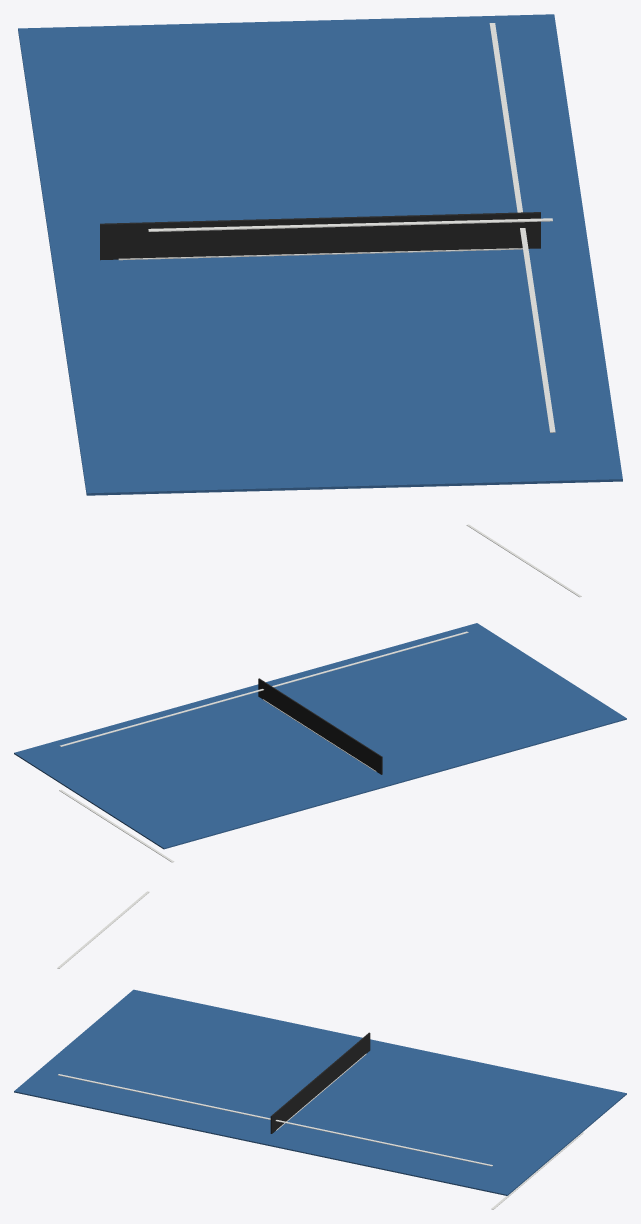
Rendered from nd_pitch_1499487638.glb.
The picture shows the model from 3 angles, top to bottom: view 1: azimuth 30°, elevation 25°; view 2: azimuth 150°, elevation 25°; view 3: azimuth 270°, elevation 25°; orthographic projection. The views are drawn at different scales.
Parts seen in each view (by area): view 1: nd_pitch_1499487638_lod0; view 2: nd_pitch_1499487638_lod0; view 3: nd_pitch_1499487638_lod0.
Boxes of the visible parts, left/top/right/bottom form: nd_pitch_1499487638_lod0: left=18, top=14, right=622, bottom=495; nd_pitch_1499487638_lod0: left=14, top=524, right=626, bottom=862; nd_pitch_1499487638_lod0: left=14, top=891, right=626, bottom=1209.
Size of what is drawn, in the model's own units: 21.16 by 7.21 by 26.7.
